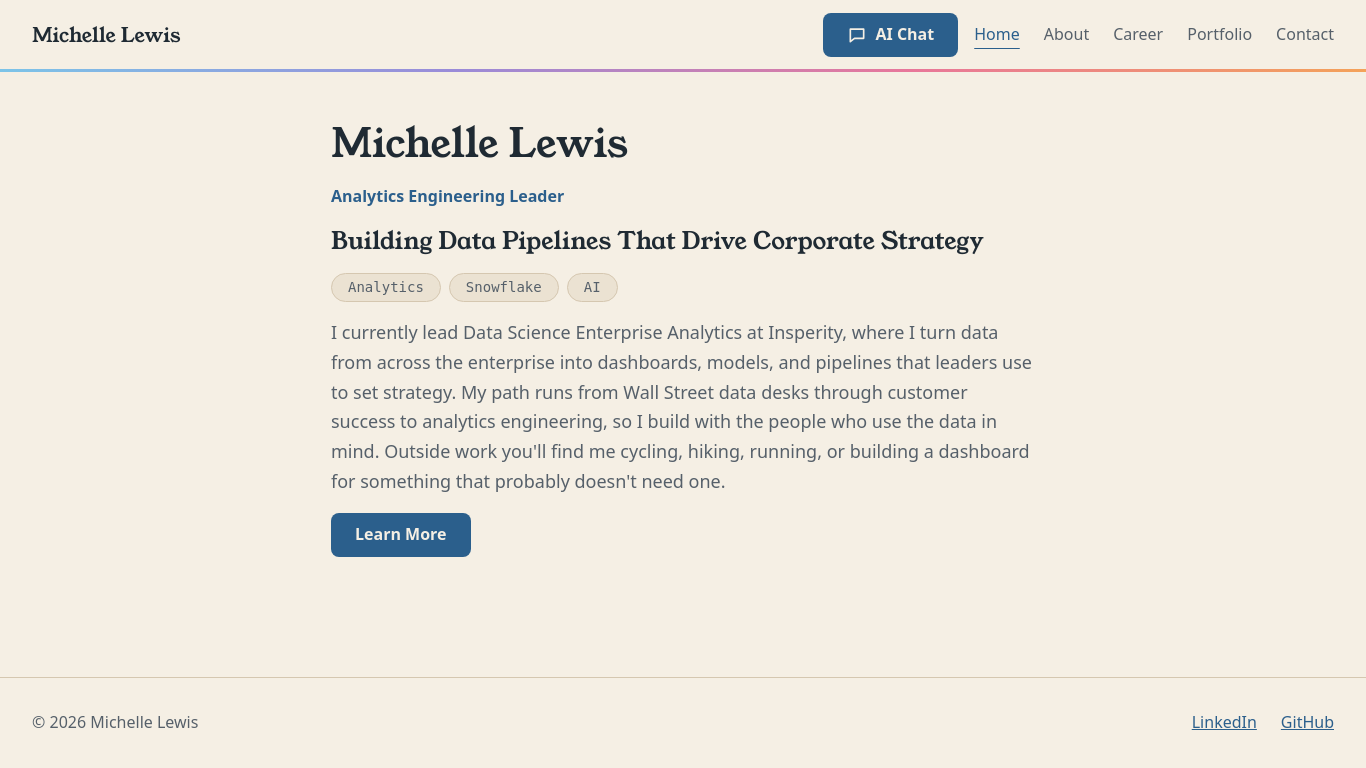
Test: phone: closing returns focus and keeps the same chat element
The image size is (1366, 768).
Click the button "AI Chat".
click(891, 34)  # box top-left (824, 12), bottom-right (958, 56)
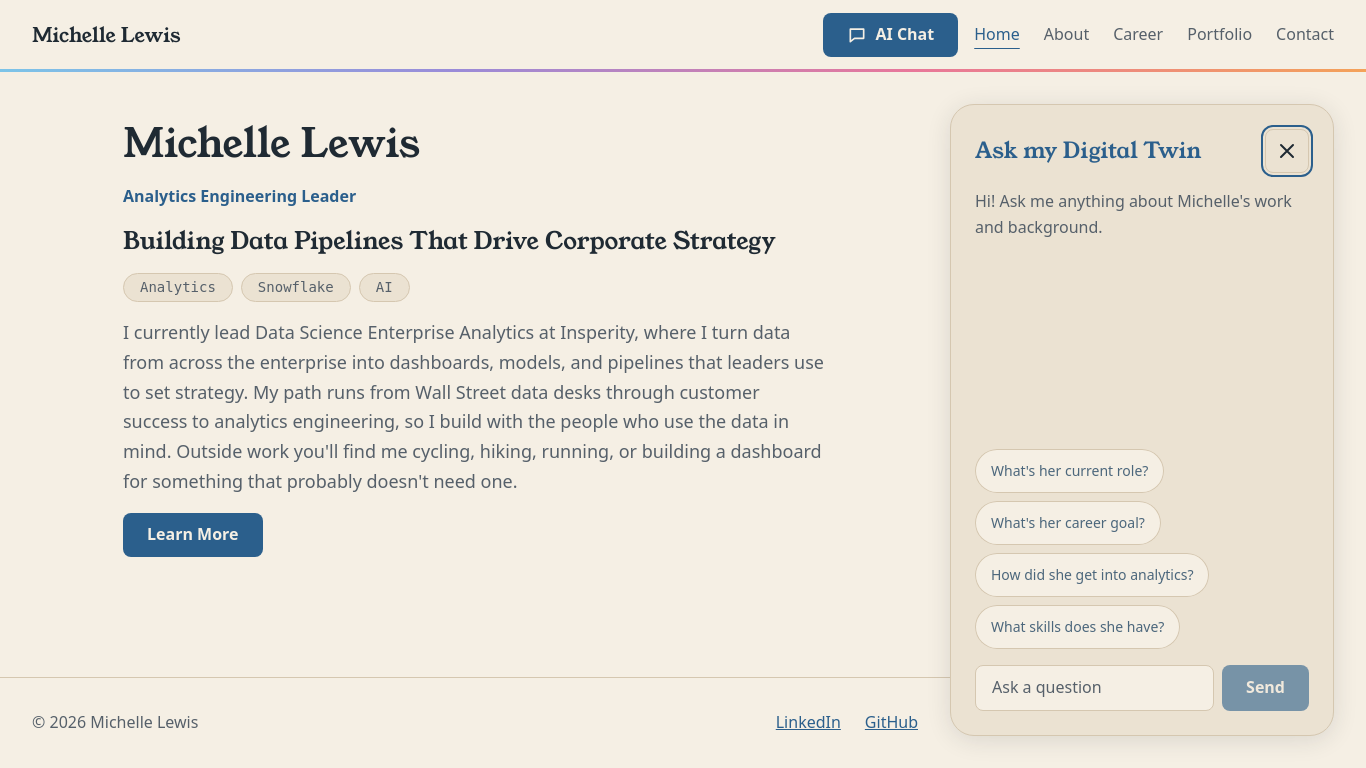
Click the button named "Close chat".
click(1287, 151)  # box top-left (1265, 129), bottom-right (1309, 173)
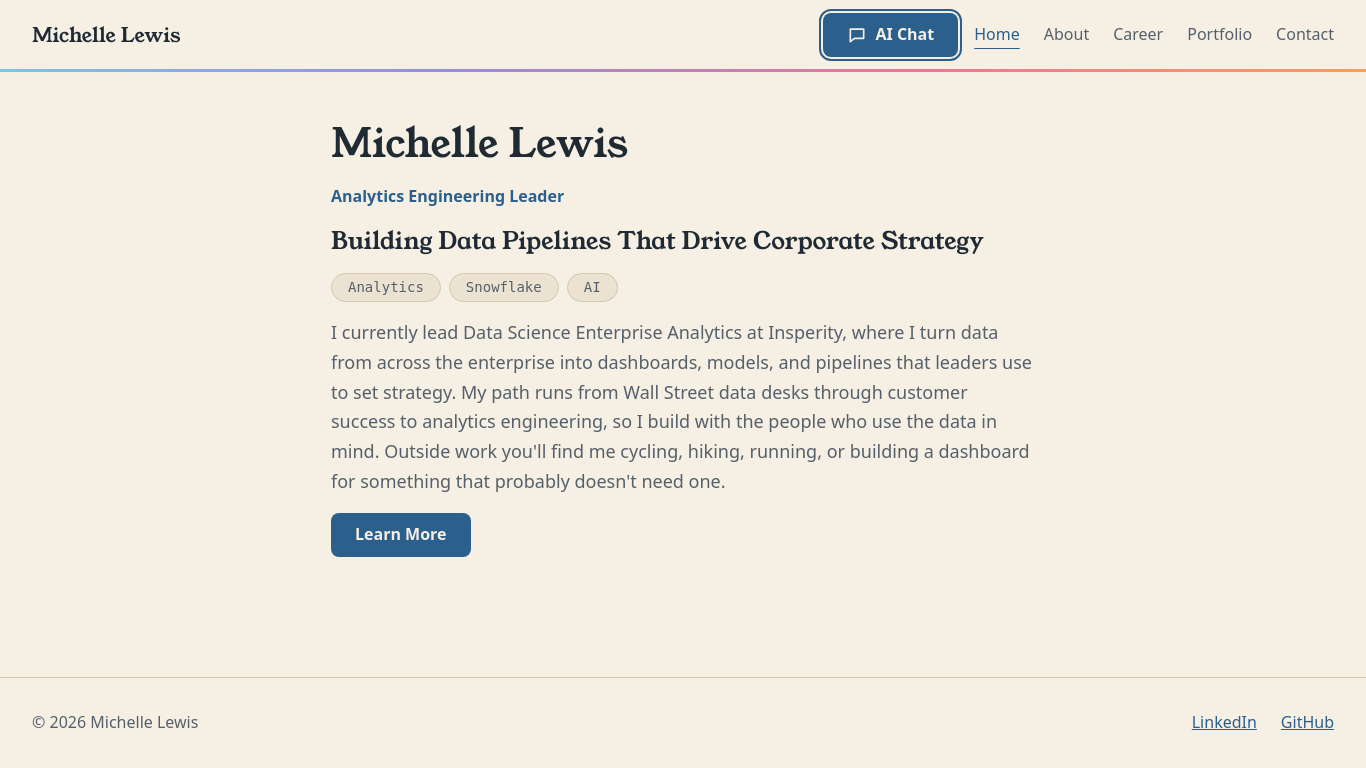
Check: the heading "Ask my Digital Twin" is gone
